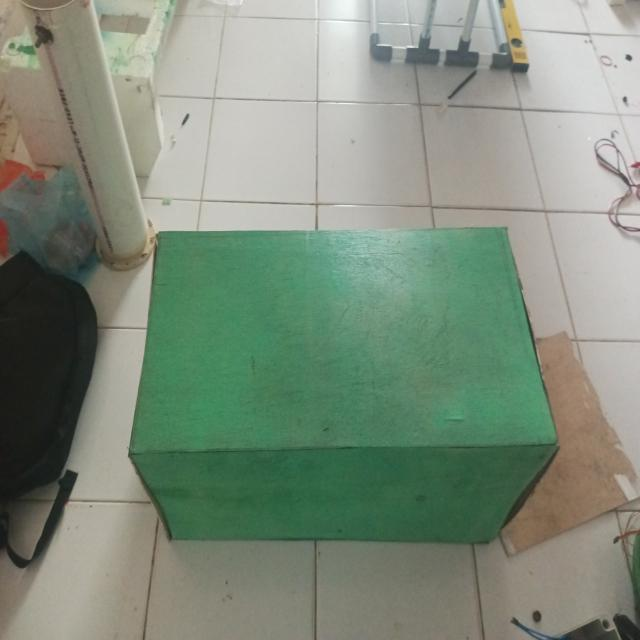green_box: (100, 193, 561, 614)
